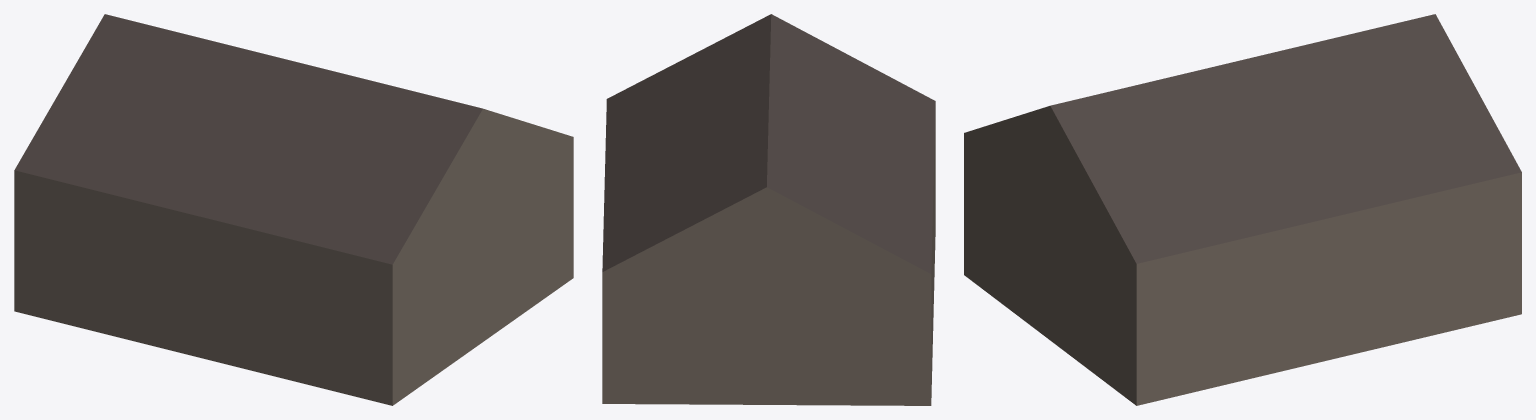
3 views of the same model, side by side, from view 1: azimuth 30°, elevation 25°; view 2: azimuth 150°, elevation 25°; view 3: azimuth 270°, elevation 25° (orthographic). The views are drawn at different scales.
Parts seen in each view (by area): view 1: HP-w859088507; view 2: HP-w859088507; view 3: HP-w859088507.
Boxes of the visible parts, x1,y1,x2,y2 form: HP-w859088507: (14, 14, 573, 405); HP-w859088507: (602, 14, 935, 405); HP-w859088507: (964, 14, 1521, 405).
Size of the model in its own units: 20.17 by 9.92 by 21.37.
